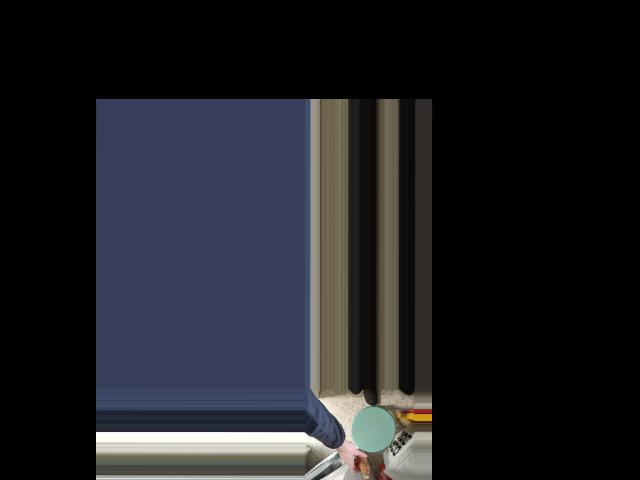sweet_potato: (348, 441, 369, 478)
